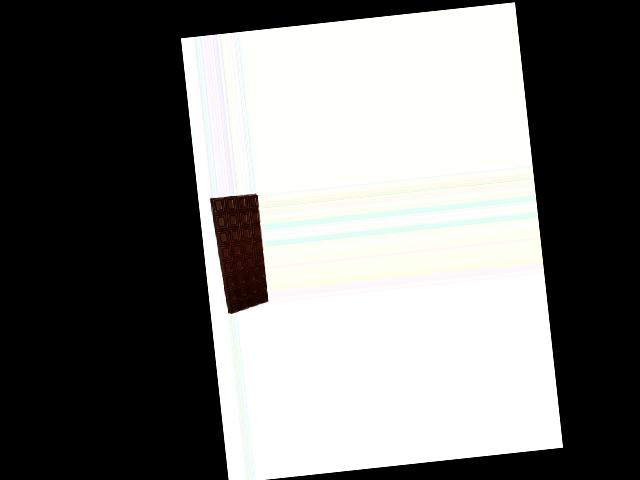chocolate: (211, 192, 270, 315)
